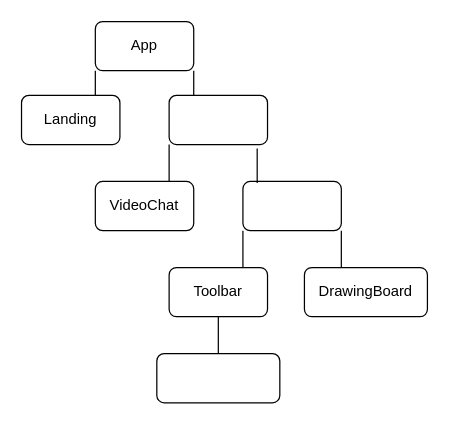
The diagram is 449 pixels wide and 424 high, and some of its shapes have lost their labels. The shapes that lost their labels are listed below. From the top down, each one's box as (x1, y1, x2, y2) in pixels, then its label:
(168, 94, 268, 145): Room
(242, 180, 341, 231): Canvas
(156, 352, 280, 403): DesignControls
